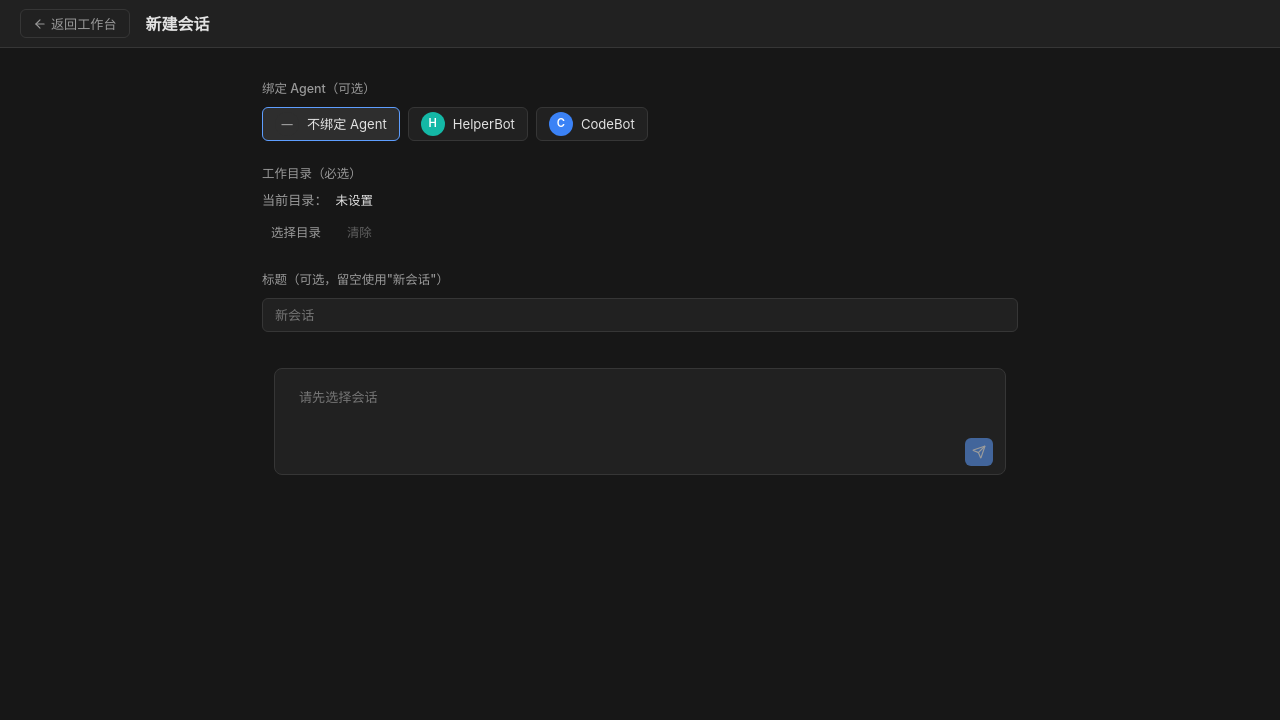
it: NewSessionPage › 无默认模型时发送前拦截：不创建 Session 且提供设置入口
Click the button labelled "选择目录". click: (296, 233)
box: x1=262 y1=219 x2=330 y2=247
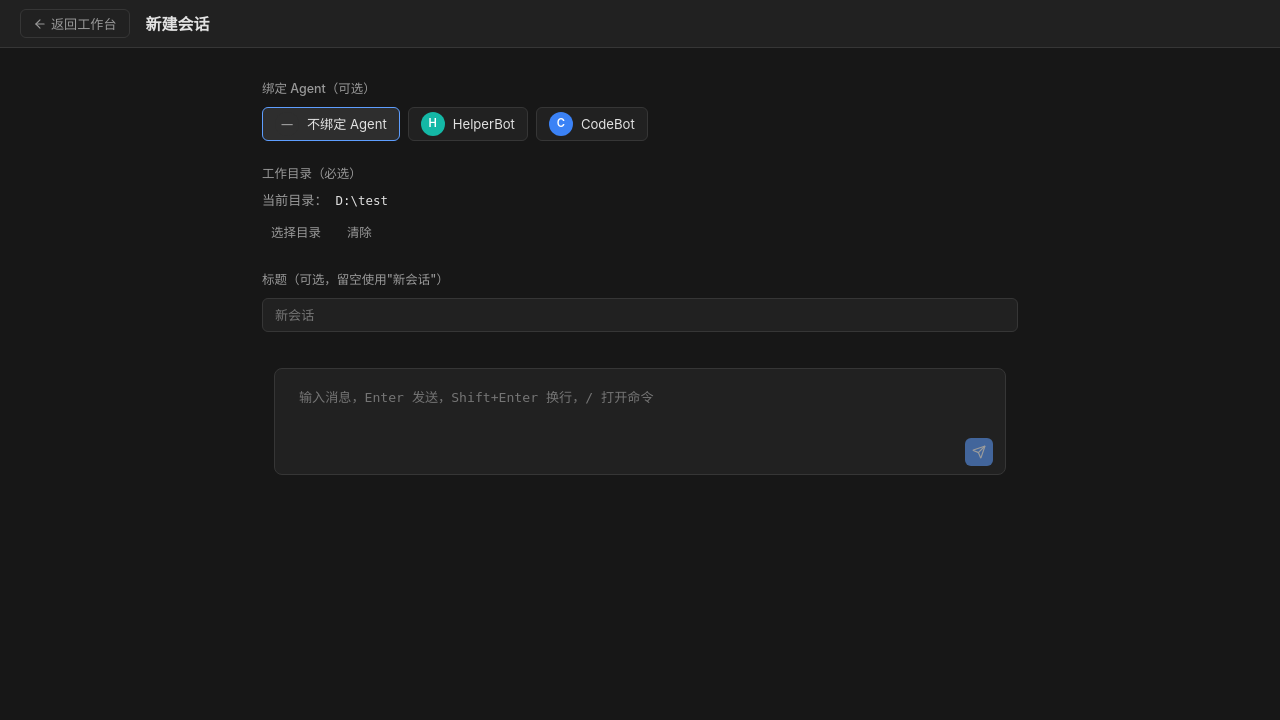
Check: the text with test id "directory-picker-value" reads "D:\\test", box x1=336 y1=193 x2=388 y2=208
Type "你好" into the text box named "消息输入". click: (640, 402)
box: x1=287 y1=379 x2=993 y2=425
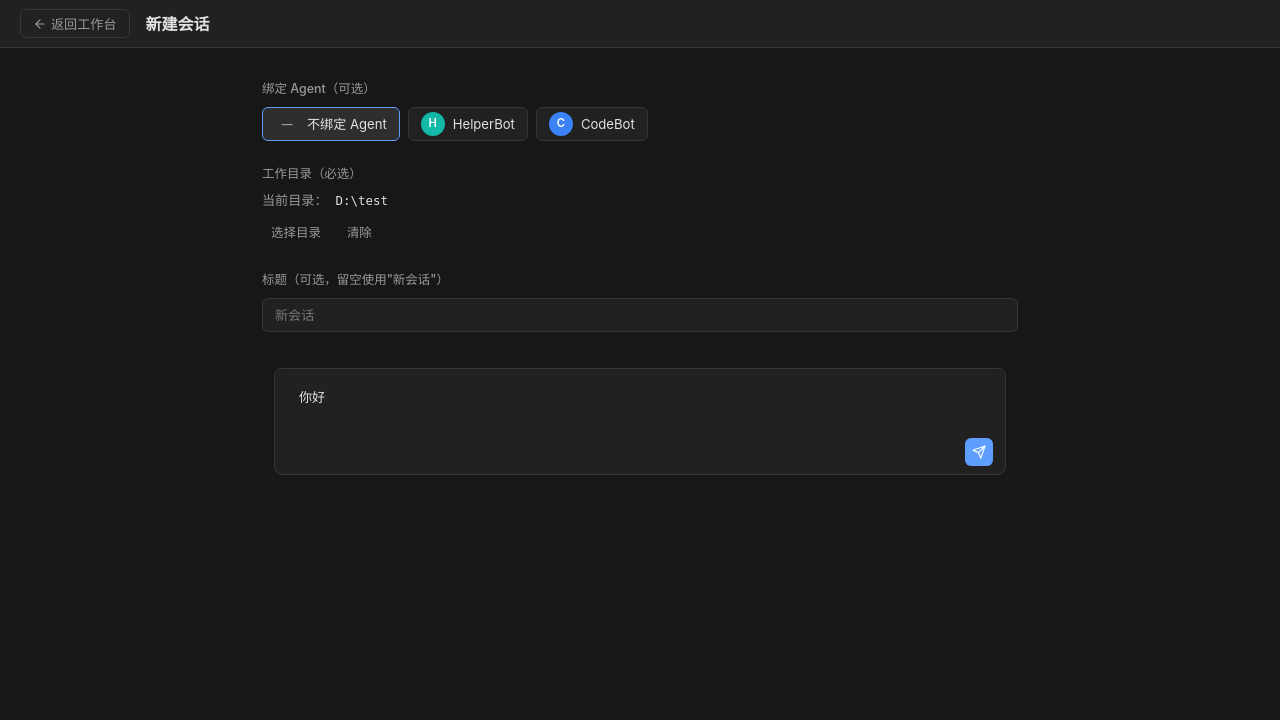
Click the button named "发送消息". click: (979, 452)
box: x1=965 y1=438 x2=993 y2=466
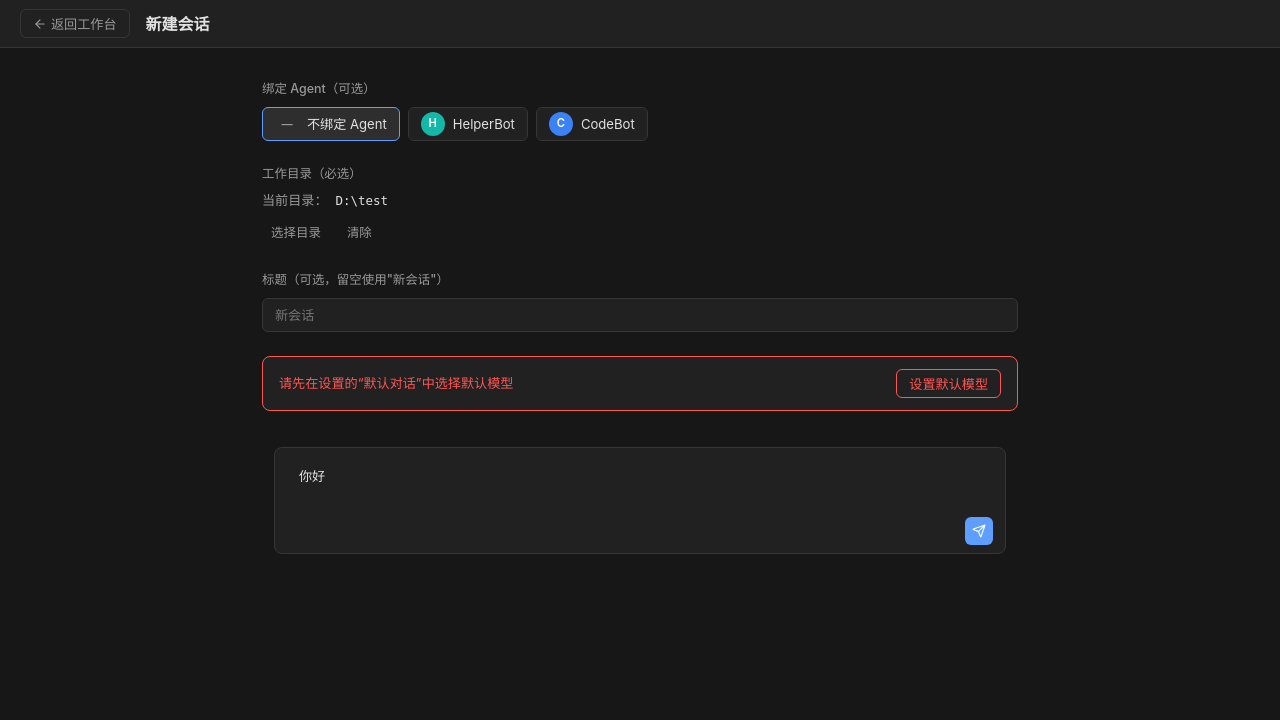
Check: the message with test id "new-session-error" shows "默认模型", box x1=279 y1=374 x2=513 y2=390
Check: the button with test id "new-session-model-settings" is shown, box x1=896 y1=369 x2=1001 y2=398
